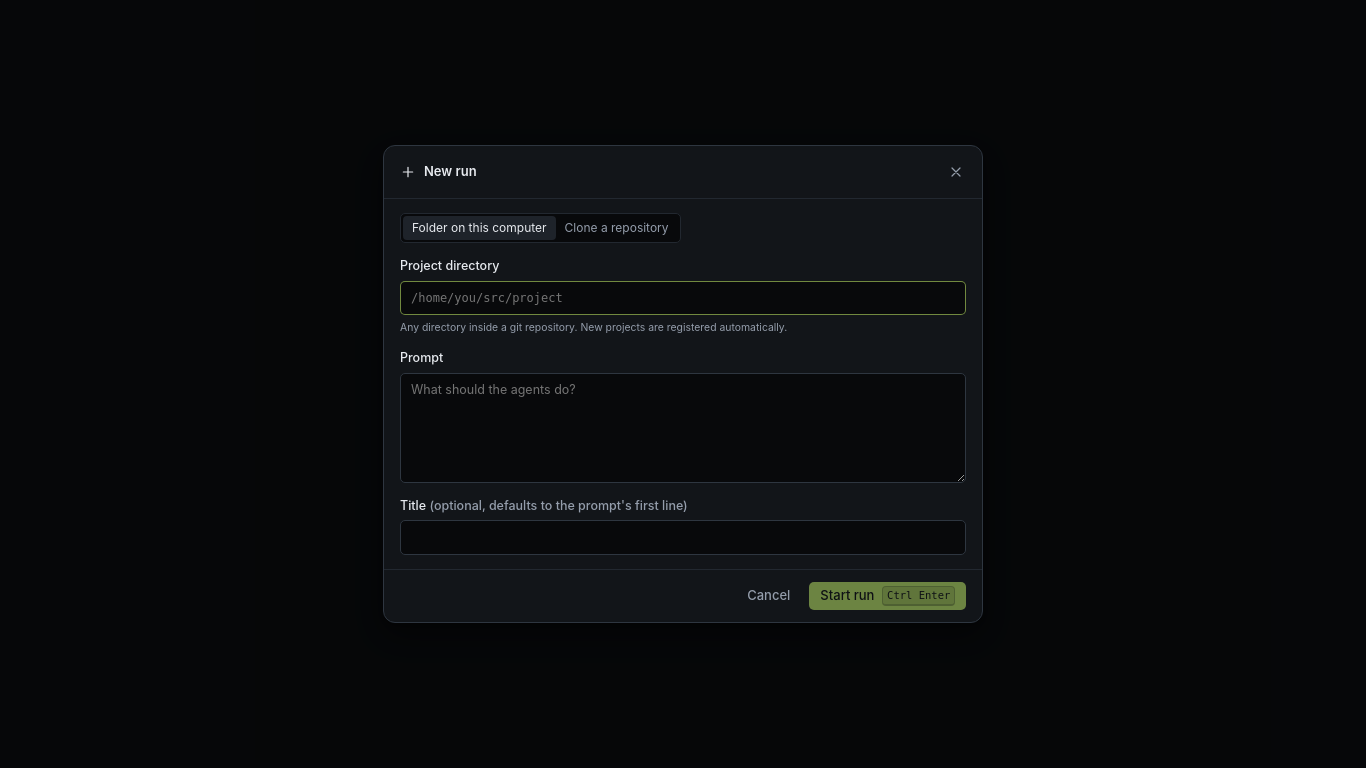
Test: NewRunDialog › shows why a clone failed
Click the tab "Clone a repository" at coordinates (617, 228), box [556,216,678,240]
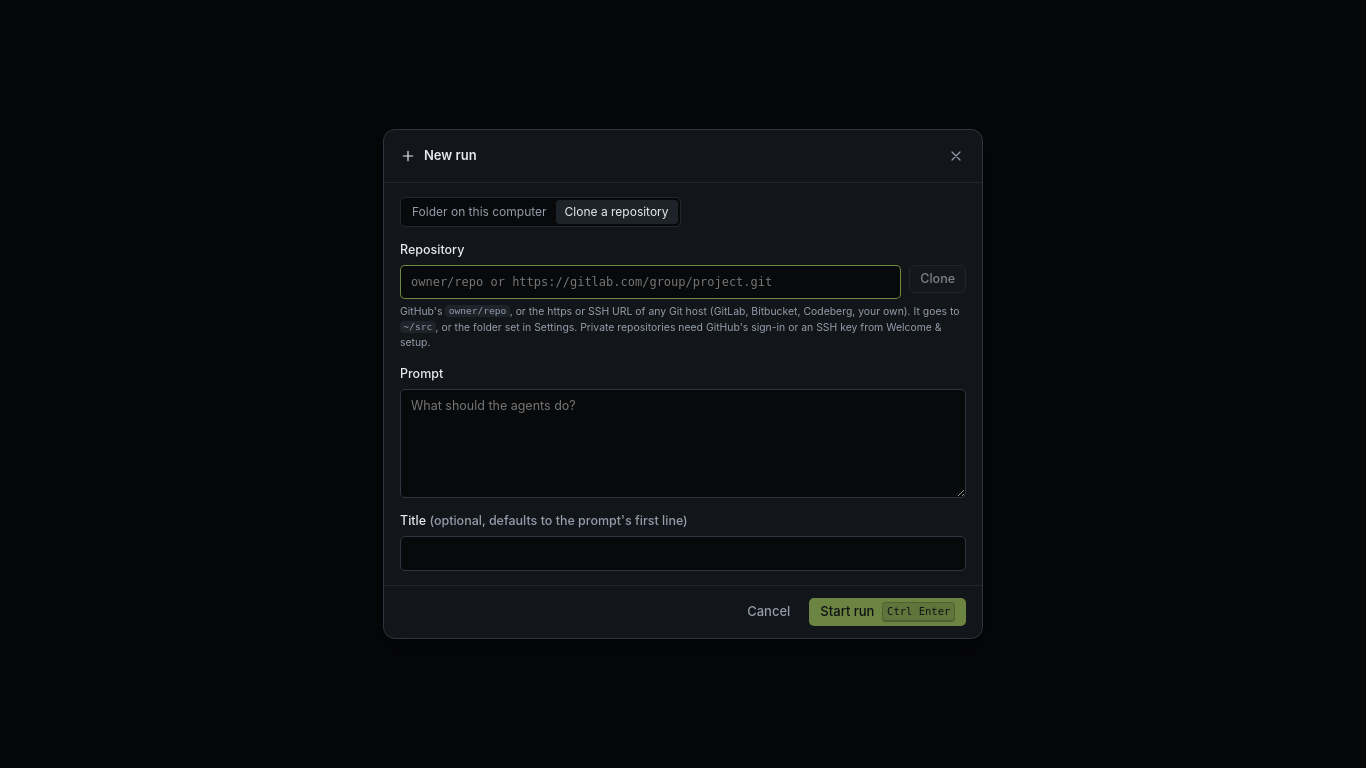
Type "nope/nope" into the field with placeholder "owner/repo or https://gitlab.com/group/project.git" at coordinates (651, 282), box [400,265,901,299]
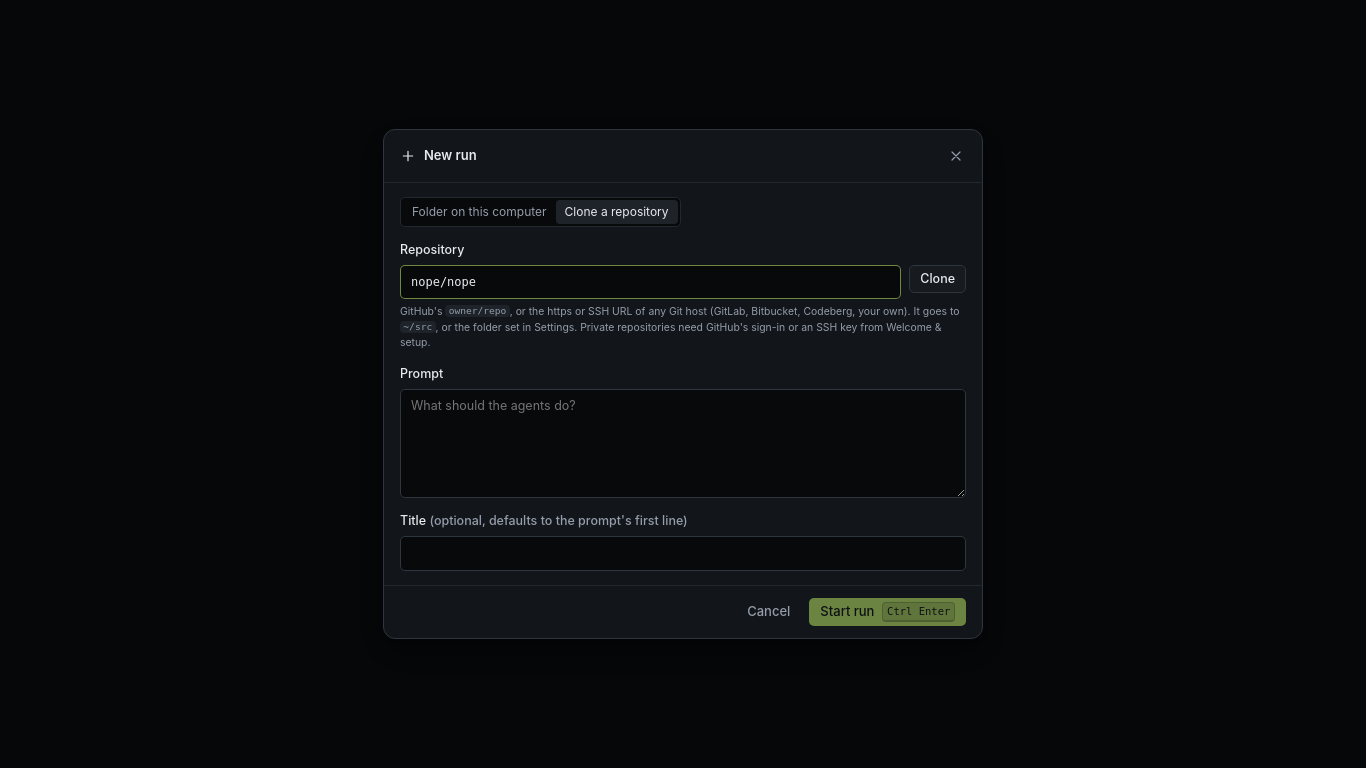
Click the button "Clone" at coordinates (938, 279), box [909,265,966,293]
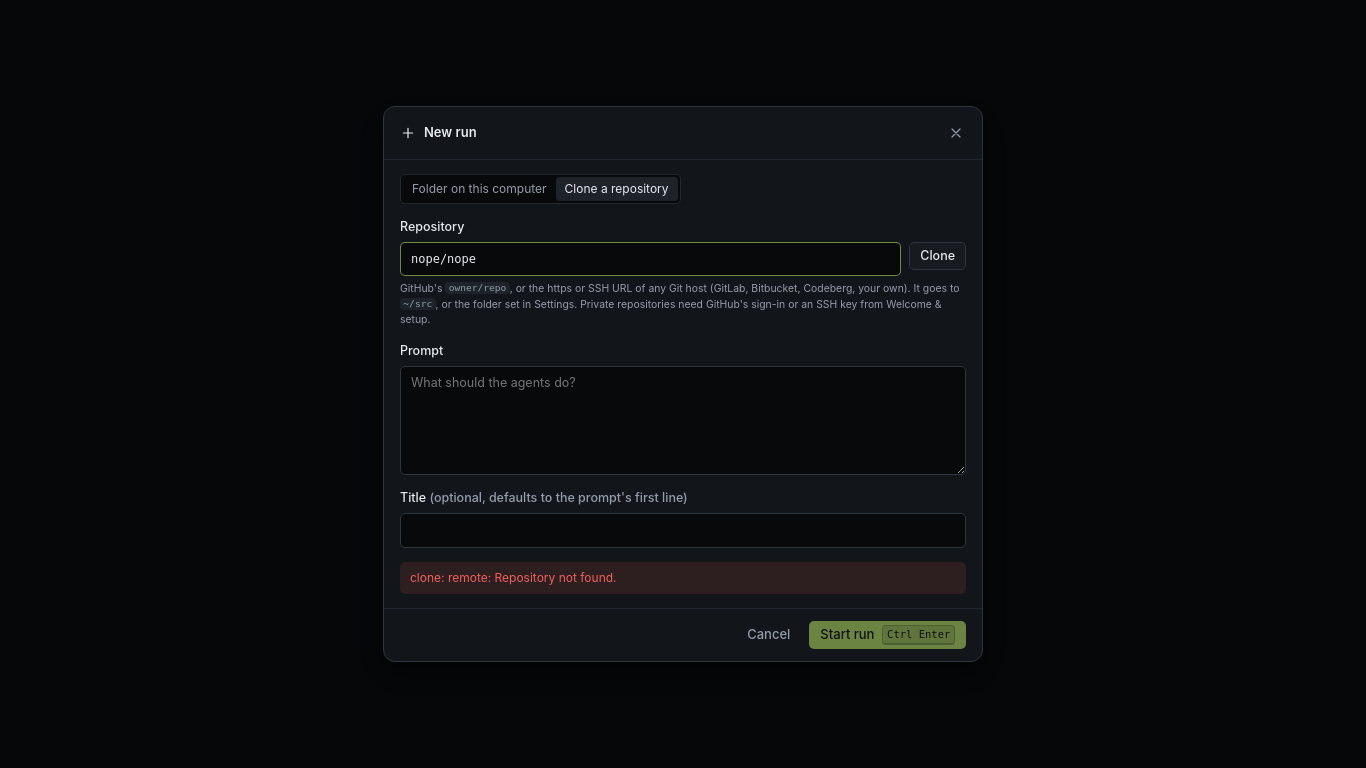
Result: the message shows "Repository not found" at [410,570,617,585]
